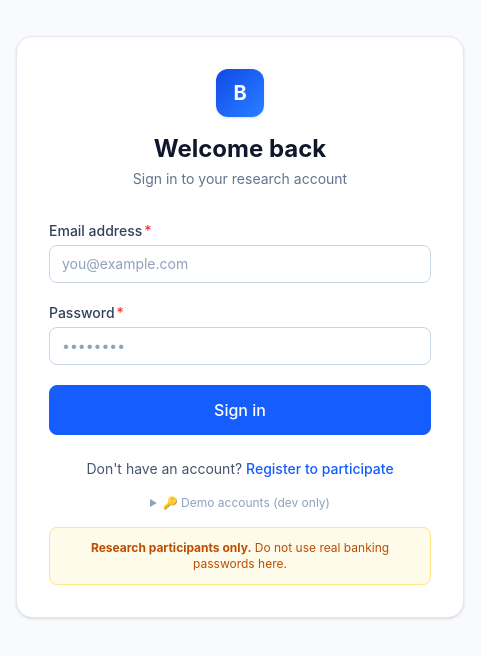
Test: LoginPage — form validation › shows email required error on empty submit
Click the button "Sign in" at [240, 410], box [49,385,431,435]
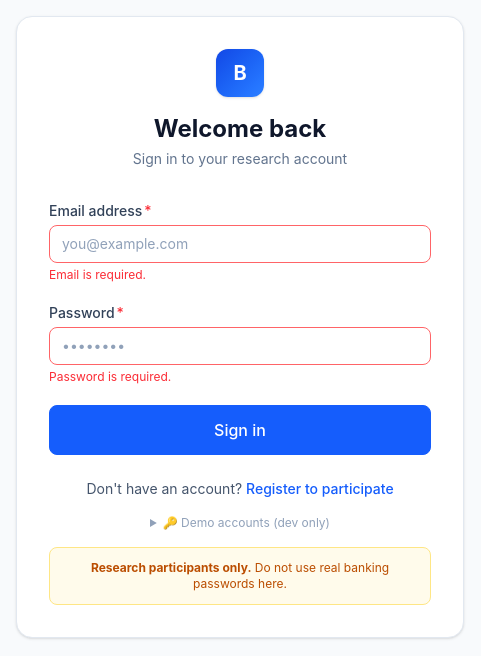
Expected: the text "Email is required." is shown, [49,267,146,282]
